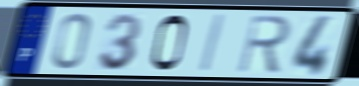0: (50, 11, 93, 71), (150, 12, 188, 73)
3: (98, 11, 144, 73)
4: (291, 13, 330, 78)
I: (197, 12, 228, 74)
R: (235, 13, 292, 75)
